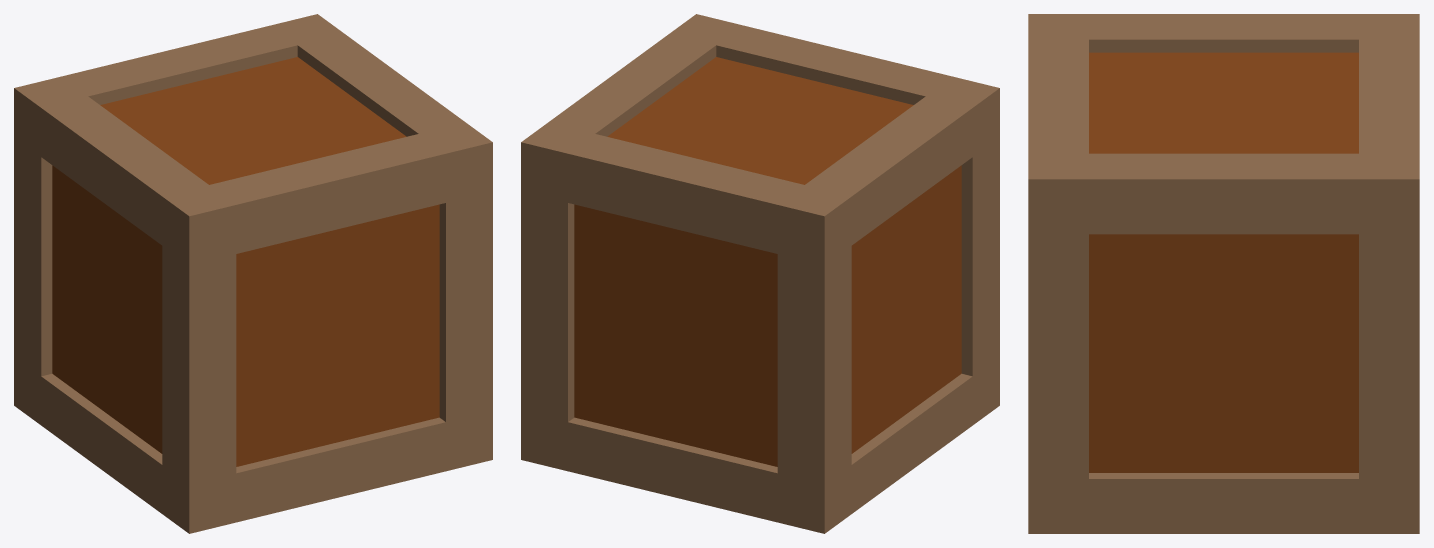
The model's file is Crate_tex.fbx.
3 renders of one model, left to right at view 1: azimuth 30°, elevation 25°; view 2: azimuth 150°, elevation 25°; view 3: azimuth 270°, elevation 25°, orthographic. The views are drawn at different scales.
Parts seen in each view (by area): view 1: Crate_tex; view 2: Crate_tex; view 3: Crate_tex.
Boxes of the visible parts, left/top/right/bottom form: Crate_tex: left=14, top=14, right=492, bottom=533; Crate_tex: left=521, top=14, right=999, bottom=533; Crate_tex: left=1028, top=14, right=1419, bottom=533.
Bounding box in the file's own units: 0.8914 × 0.8914 × 0.8914.
